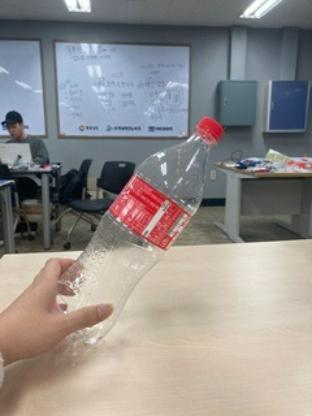Plastic Bottle: (48, 110, 228, 352)
